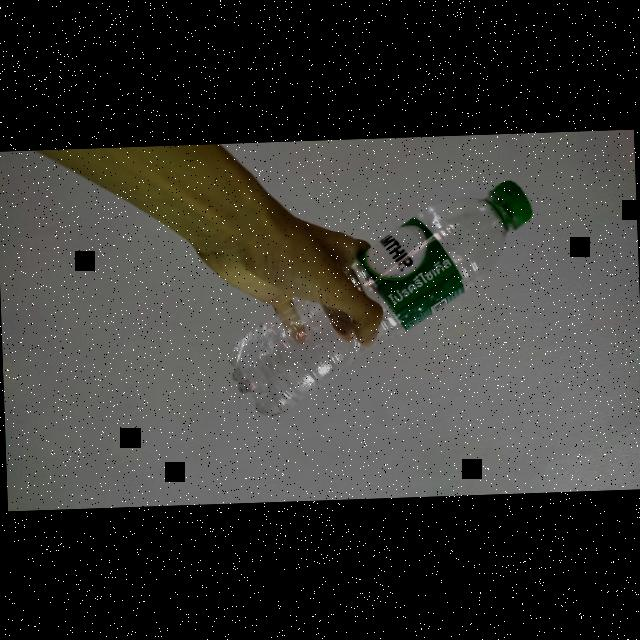plastic_bottle: (217, 174, 542, 430)
plastic_bottle_cap: (484, 178, 534, 232)
